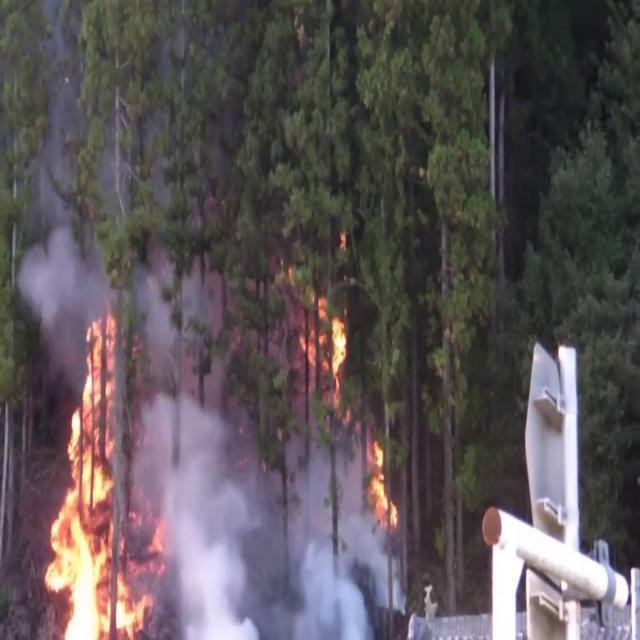Fire: (39, 304, 148, 638), (295, 276, 357, 405), (368, 431, 399, 542)
Smoke: (125, 270, 289, 640), (268, 406, 404, 634), (9, 194, 118, 372)
